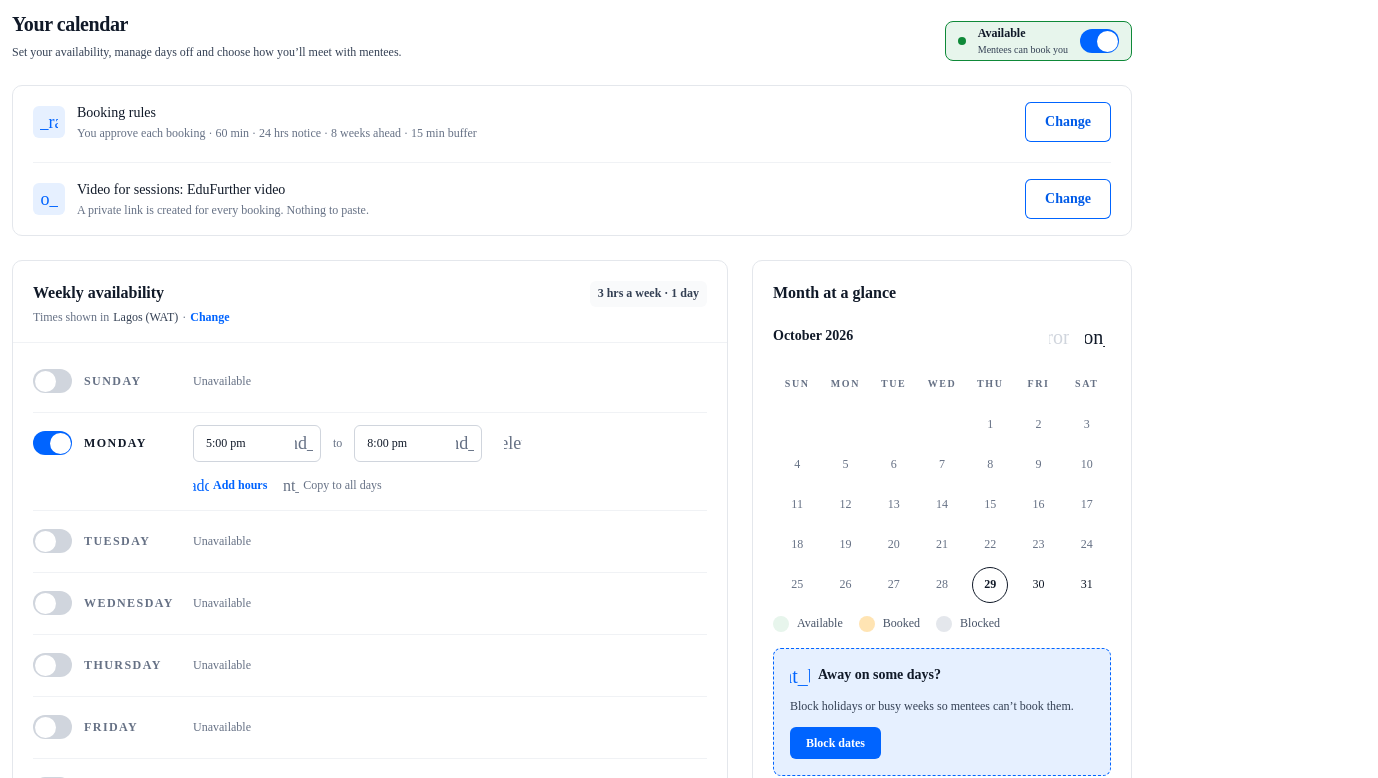
CalendarScreen › turning a change back by hand is not a change
Step 1. Click the switch named "Tuesday" next to "Tuesday" → click(52, 542), box [33,530,72,554]
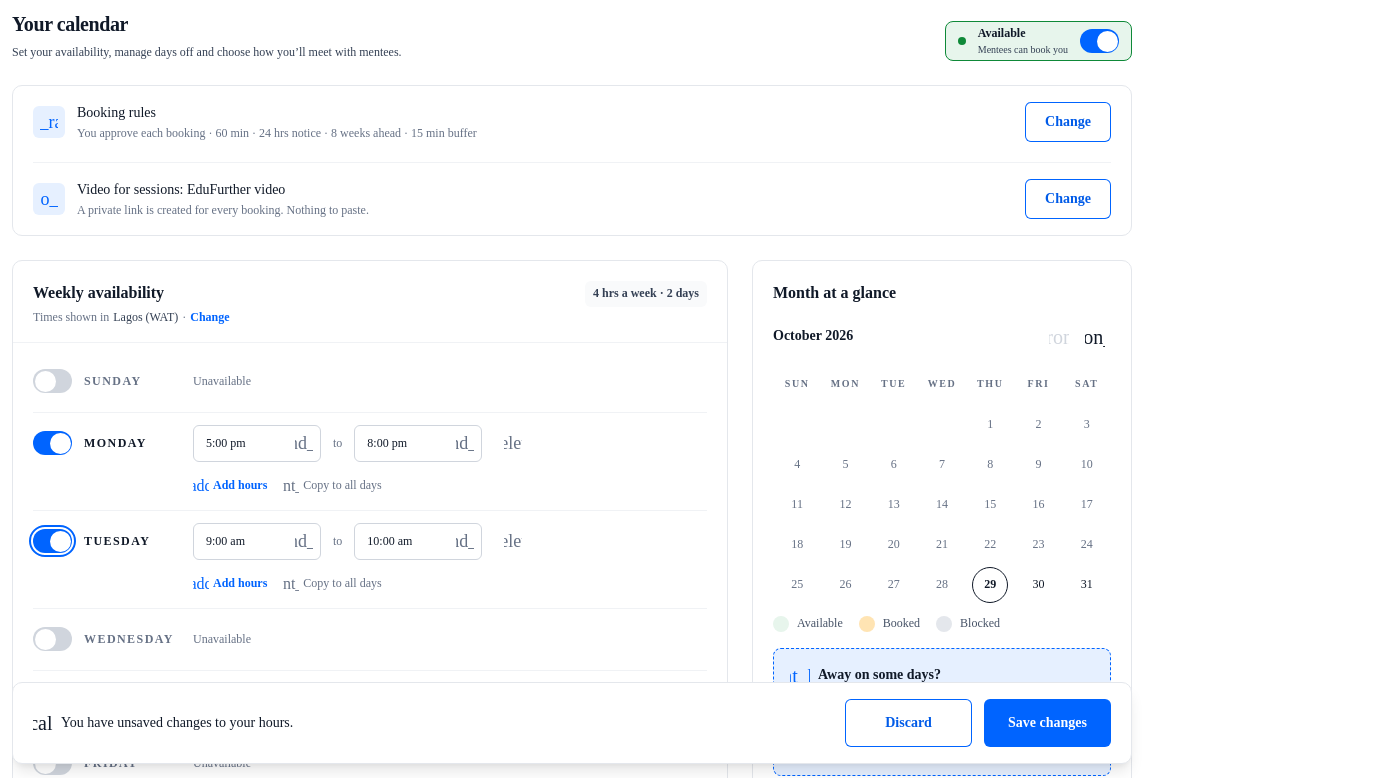
Step 2. Click the switch named "Tuesday" next to "Tuesday" → click(52, 542), box [33,530,72,554]
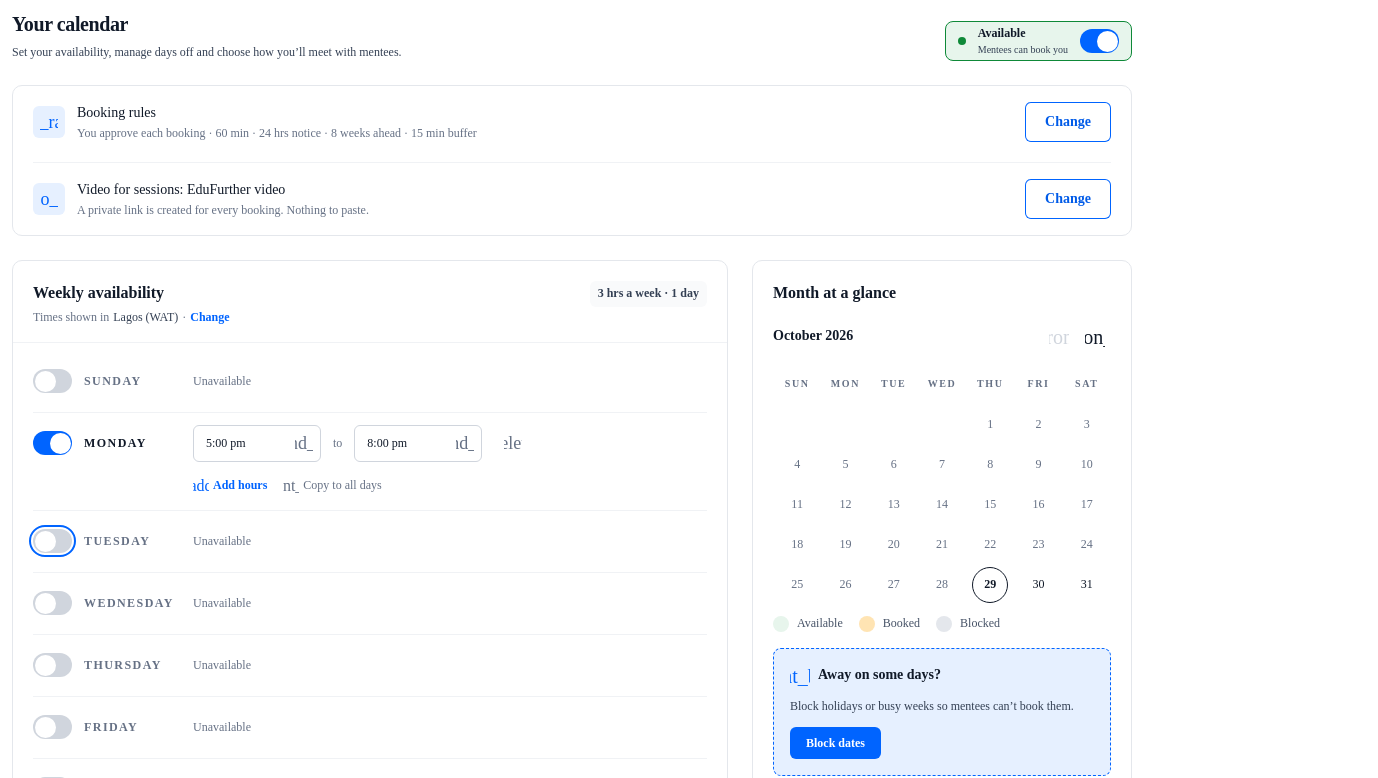
Check: the message "unsaved changes" is gone
